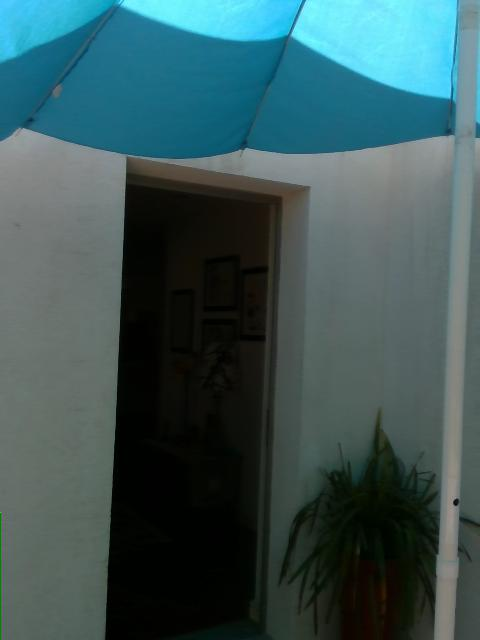open_door: (97, 169, 288, 639)
